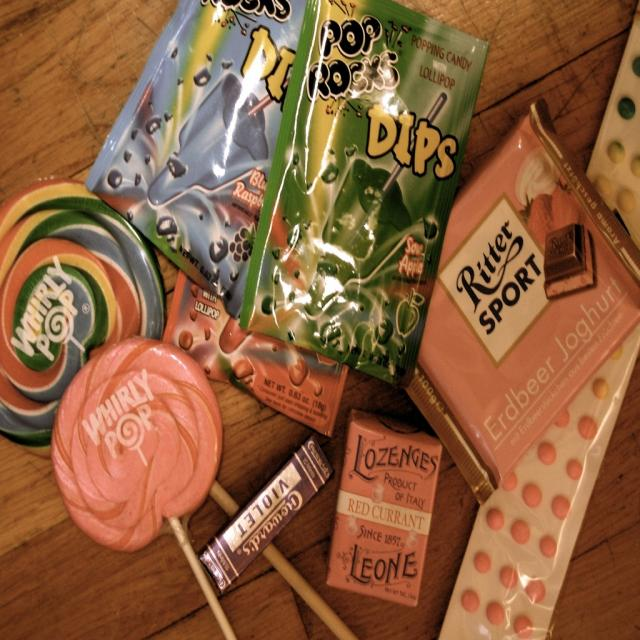rittersport: (441, 198, 560, 365)
